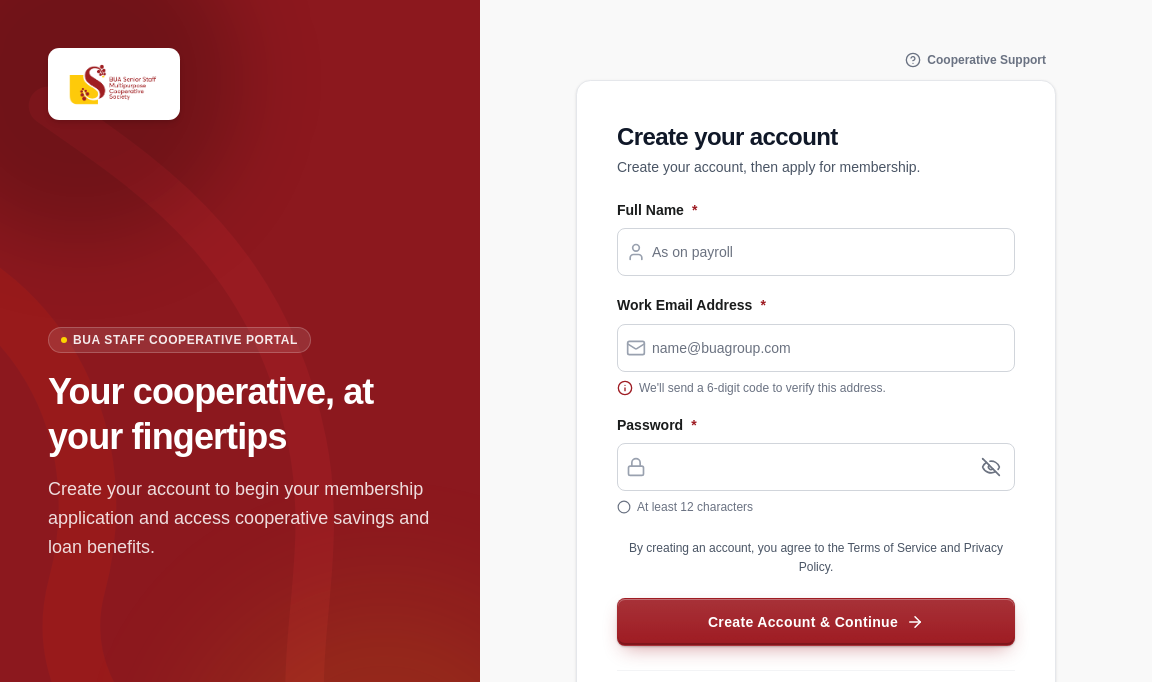
Test: SignupPage › shows Zod errors under each field and sends nothing
Expected: the heading "Create your account" is shown, [617,123,838,150]
Type "nope" into the field labelled "Work Email Address *" at (830, 348), box [646,324,1014,370]
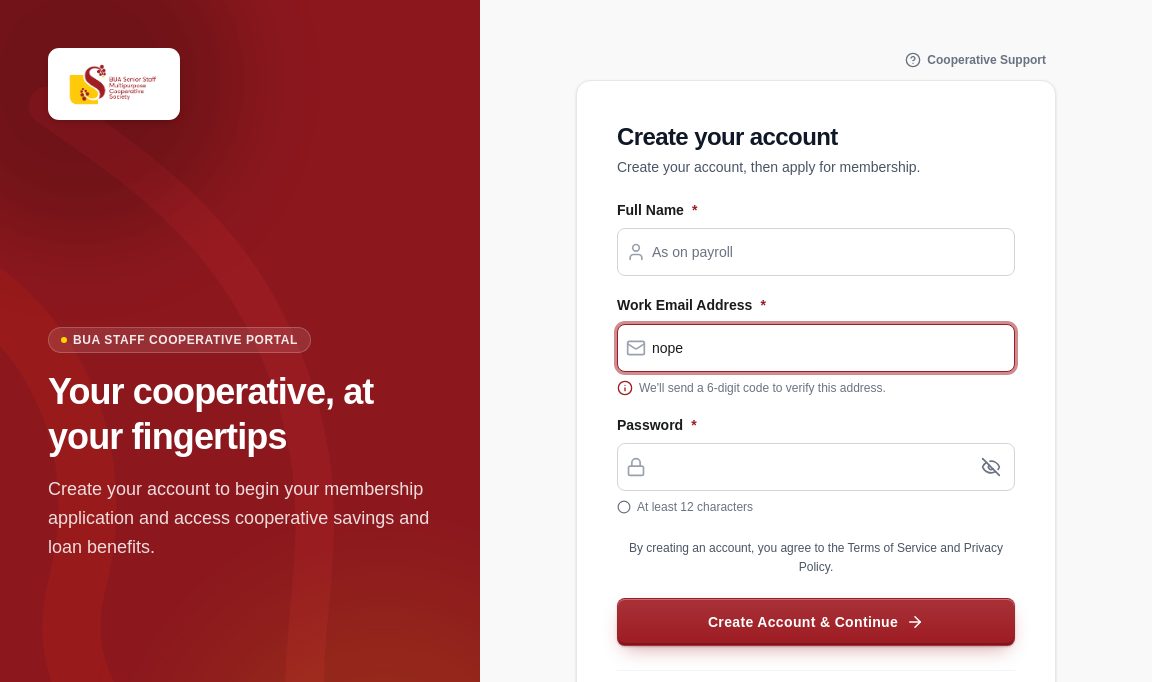
Type "short" into the password field labelled "Password *" at (808, 467), box [646,444,971,490]
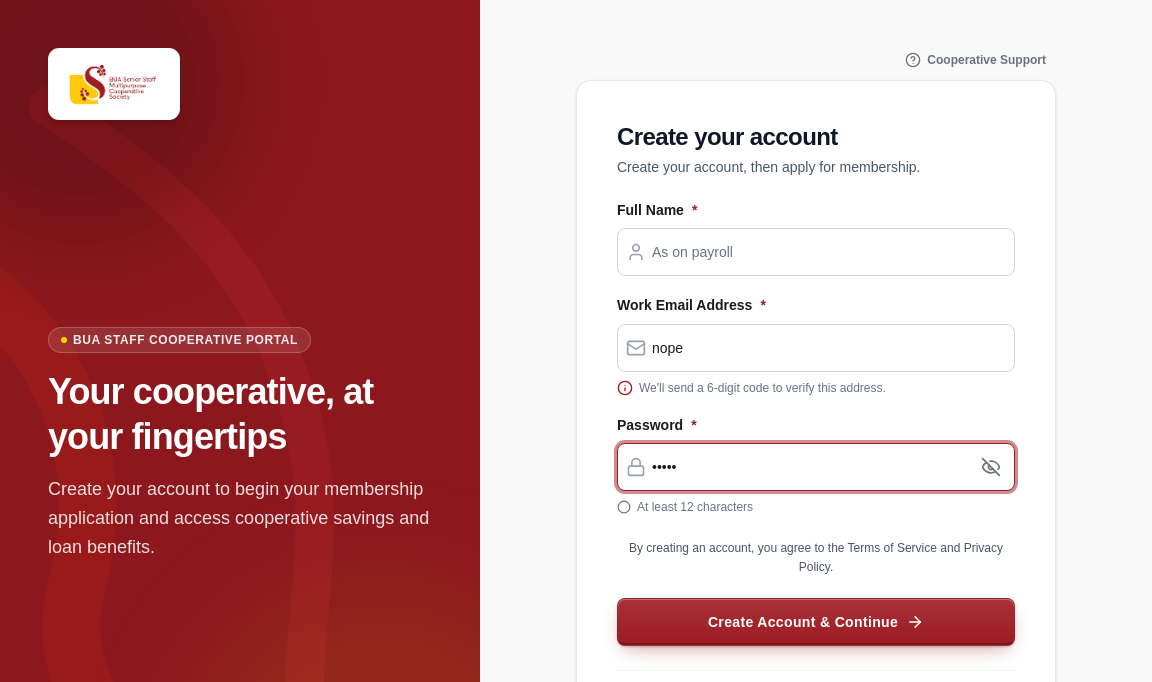
Click the button "Create Account & Continue" at (816, 622), box [617,598,1015,646]
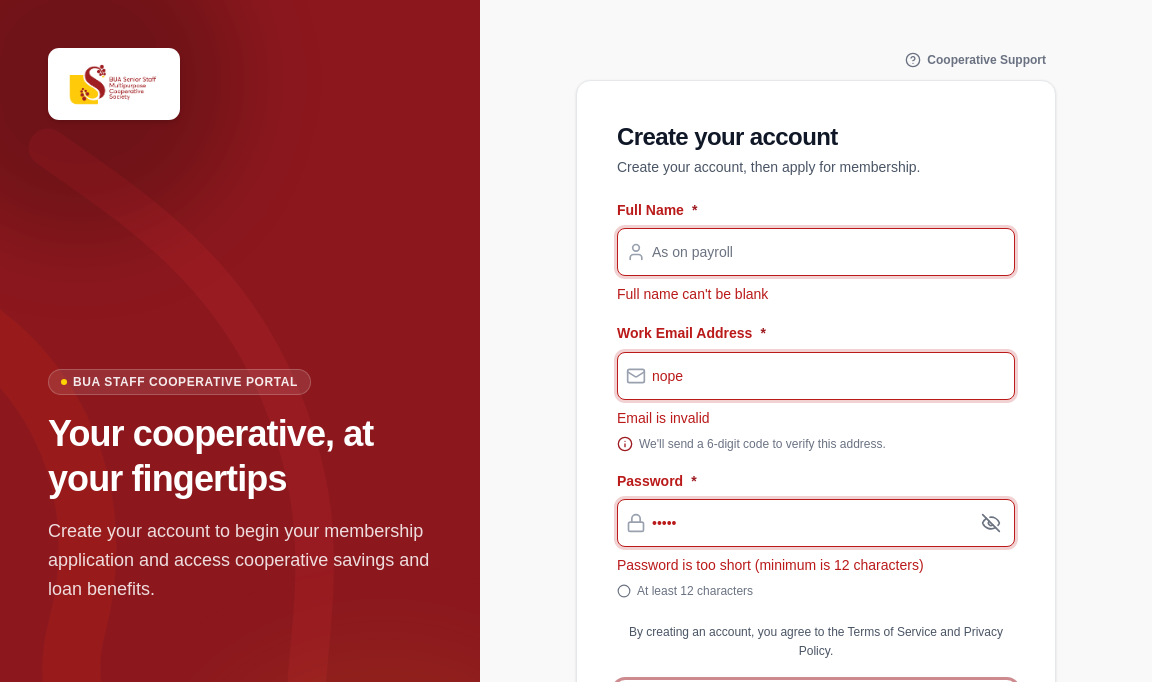
Expected: the text "Full name can't be blank" is shown, [617,286,768,302]
Expected: the text "Email is invalid" is shown, [617,410,710,426]
Expected: the text "Password is too short (minimum is 12 characters)" is shown, [617,557,924,573]
